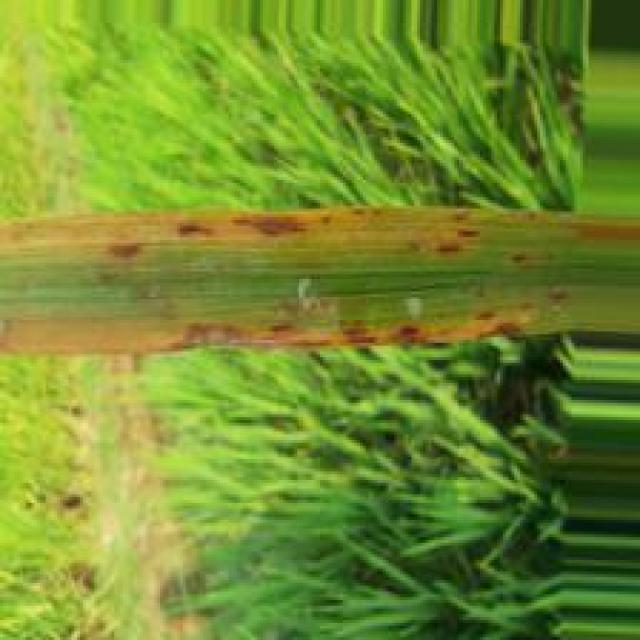Narrow_Brown_Leaf_Spot: (13, 209, 478, 267), (0, 305, 534, 351)
